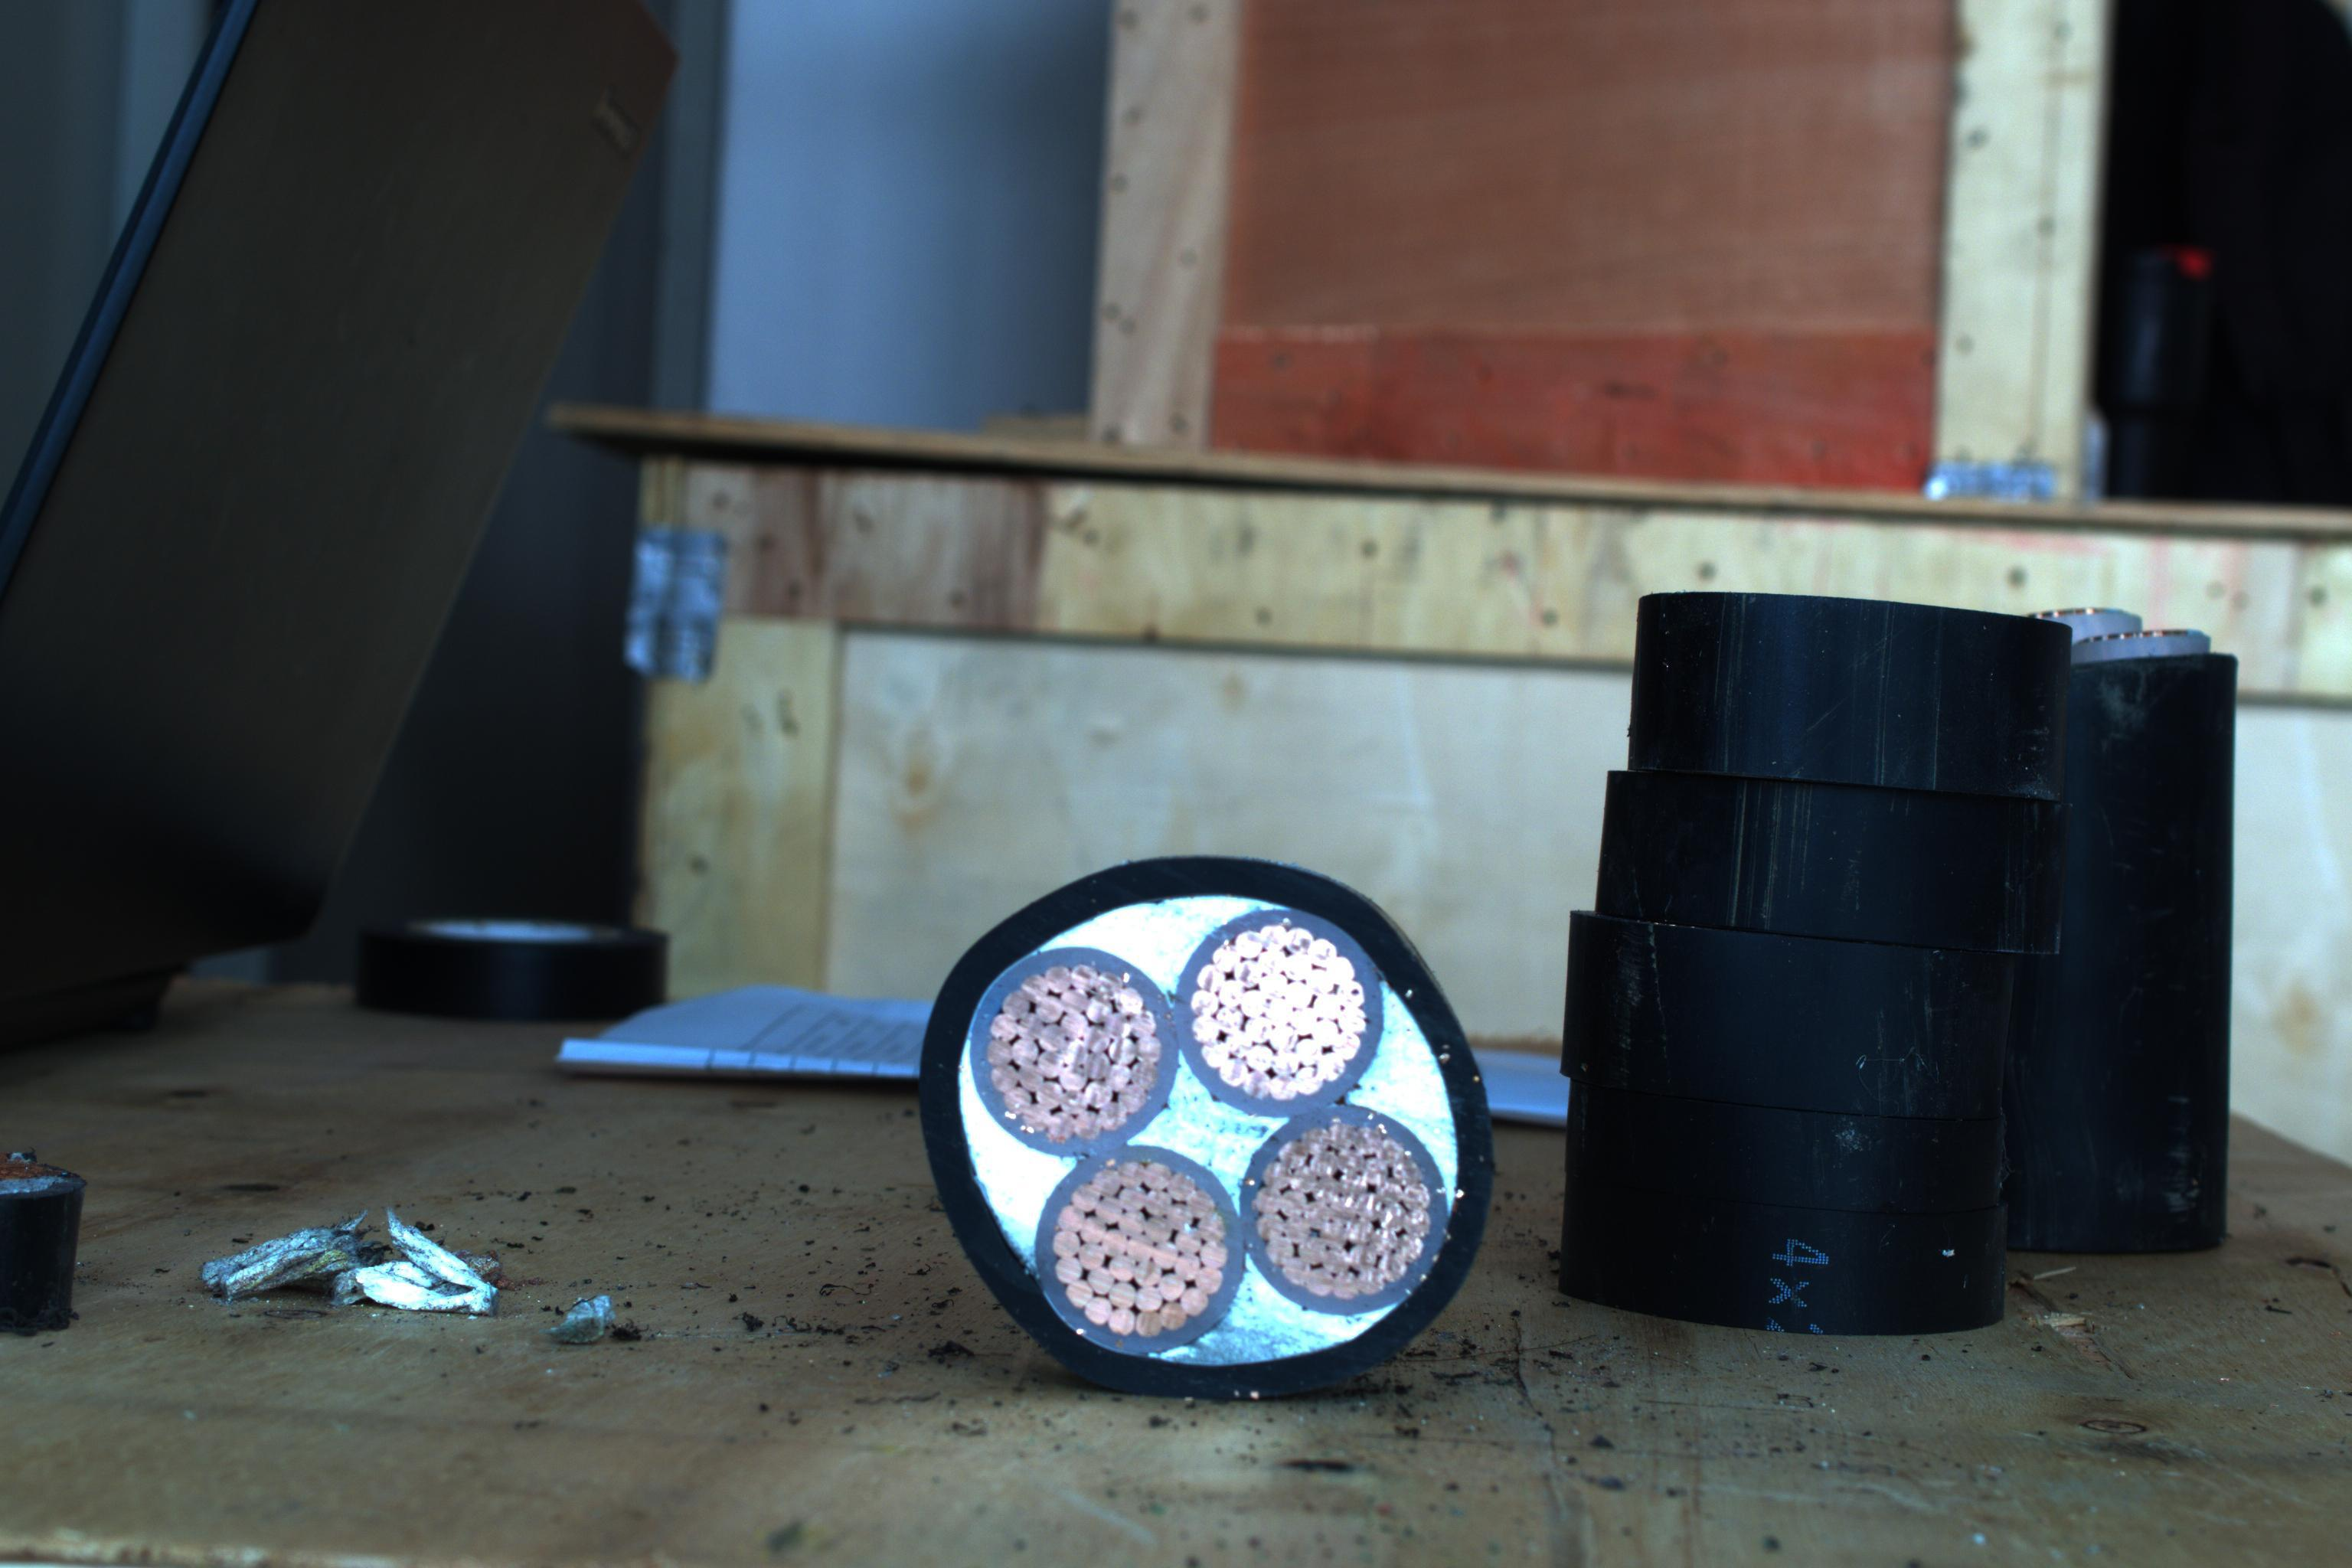YJV_0.6_1kV_4x240: (943, 824, 1498, 1409)
